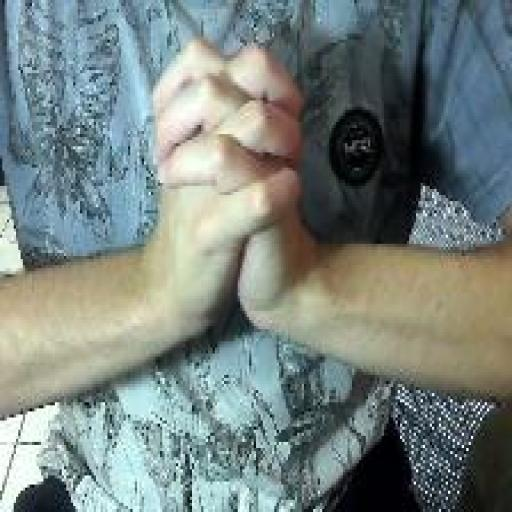Mi -snake-: (146, 32, 309, 337)
